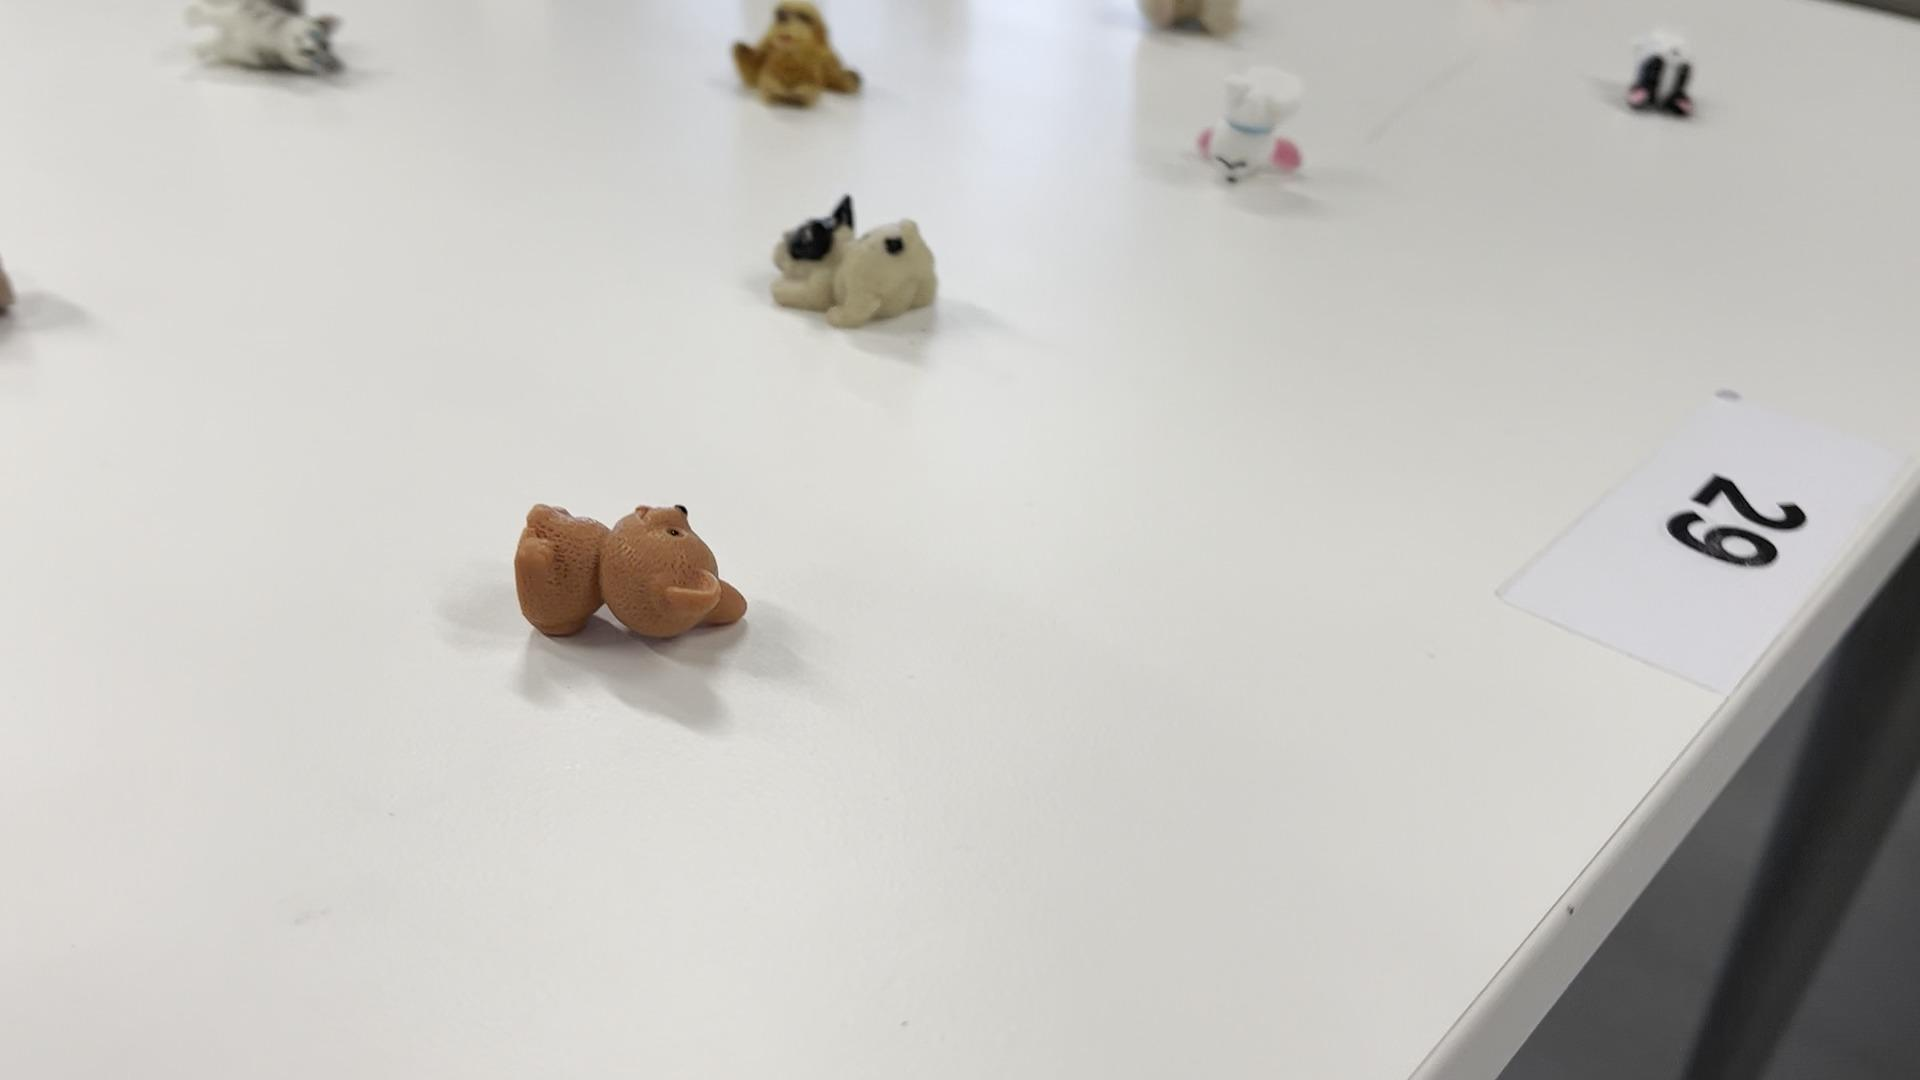pet: (509, 480, 761, 655), (764, 187, 945, 330), (727, 0, 873, 123), (1193, 61, 1311, 195), (178, 0, 348, 90), (1621, 22, 1702, 132)
